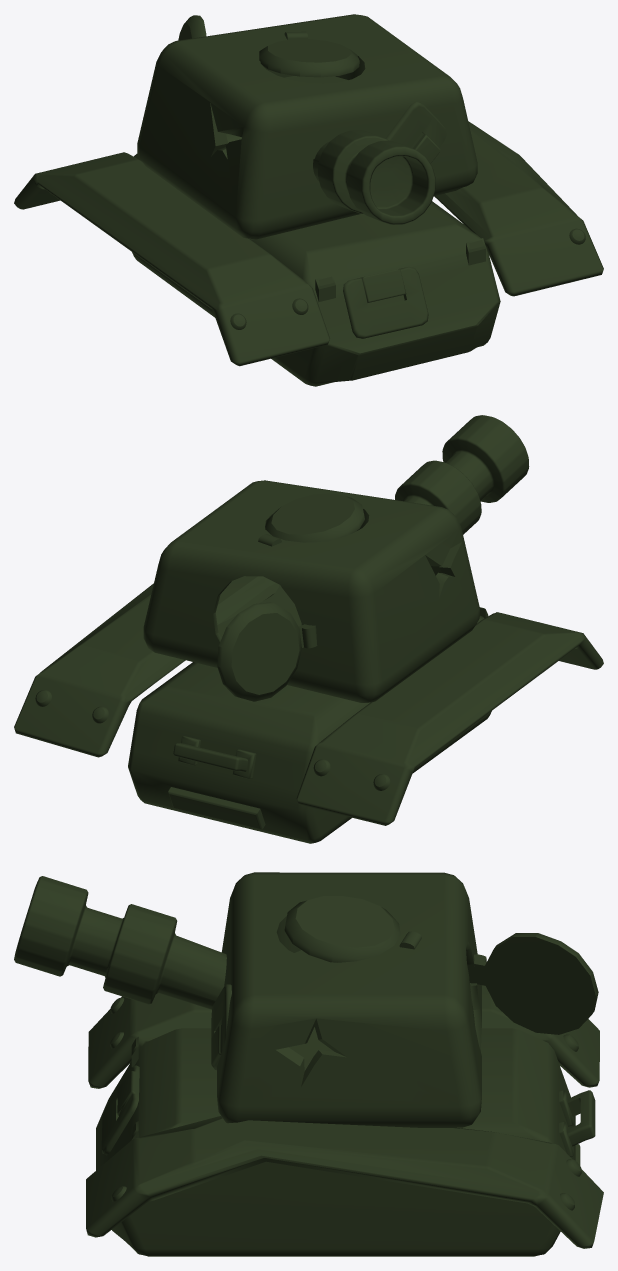
File: BrokenTank1.fbx
3 renders of one model, top to bottom at view 1: azimuth 30°, elevation 25°; view 2: azimuth 150°, elevation 25°; view 3: azimuth 270°, elevation 25°, orthographic. The views are drawn at different scales.
Parts seen in each view (by area): view 1: TurretBrokenShape, Tank, R_Fender, L_Fender_polySurface1, KikareTopp1, KikareTopp; view 2: TurretBrokenShape, Tank, R_Fender, L_Fender_polySurface1; view 3: TurretBrokenShape, Tank, L_Fender_polySurface1, R_Fender, KikareTopp1, KikareTopp.
Part boxes in pixels (x1,y1,x2,y2): TurretBrokenShape: [137, 14, 477, 239]; Tank: [132, 153, 500, 386]; R_Fender: [14, 152, 329, 366]; L_Fender_polySurface1: [434, 121, 603, 296]; KikareTopp1: [343, 266, 428, 338]; KikareTopp: [385, 101, 446, 163]; TurretBrokenShape: [143, 415, 529, 702]; Tank: [128, 607, 491, 843]; R_Fender: [296, 612, 603, 825]; L_Fender_polySurface1: [14, 576, 278, 757]; TurretBrokenShape: [14, 872, 598, 1127]; Tank: [96, 1028, 595, 1256]; L_Fender_polySurface1: [86, 1116, 603, 1248]; R_Fender: [88, 985, 599, 1088]; KikareTopp1: [101, 1065, 139, 1155]; KikareTopp: [211, 984, 231, 1070].
Size of the model in its own units: 438 by 288 by 508.
